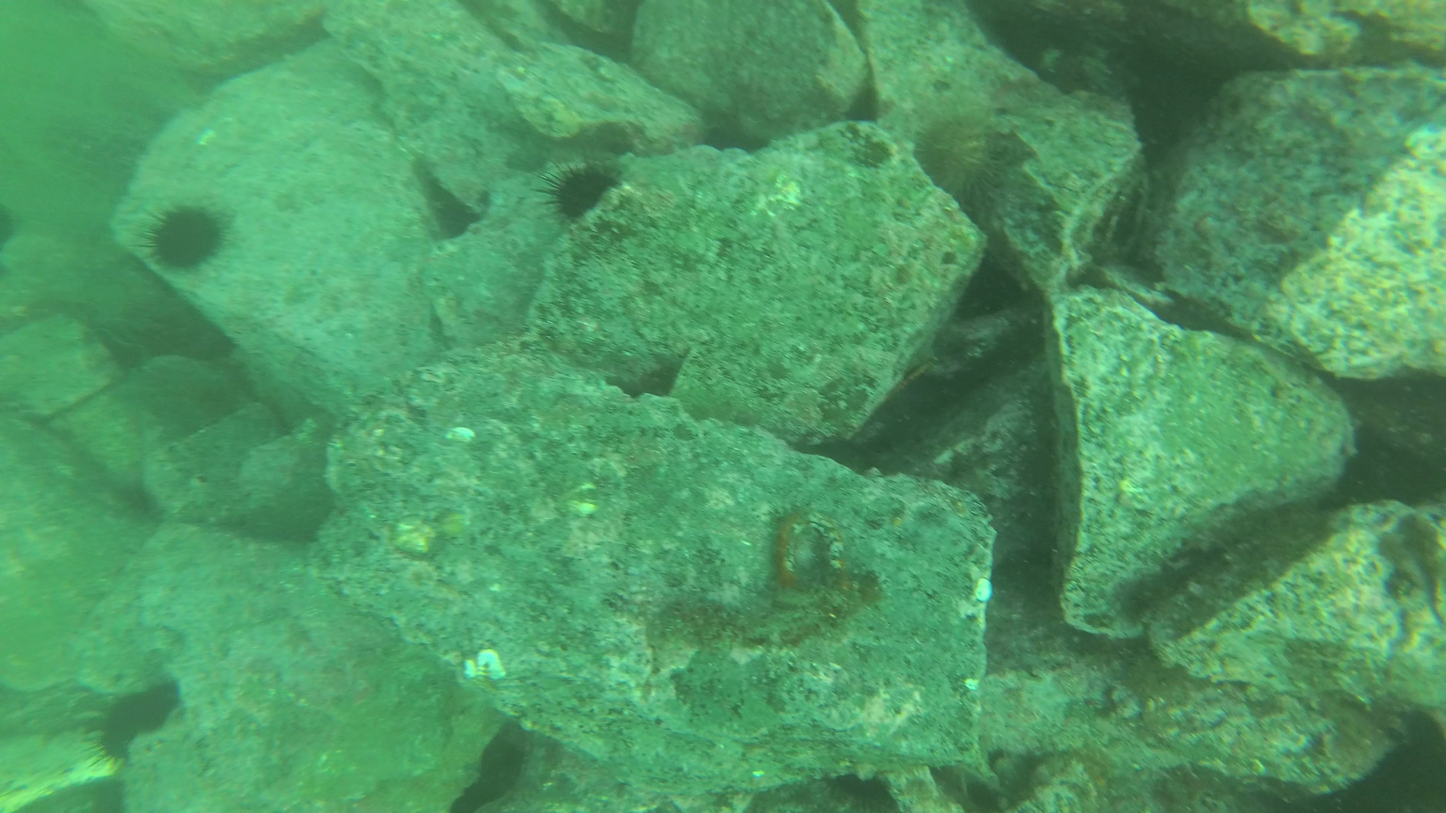scallop: (387, 517, 451, 563), (459, 650, 515, 691)
starfish: (85, 688, 190, 779), (915, 113, 1008, 201), (537, 161, 630, 225), (142, 204, 228, 267)
